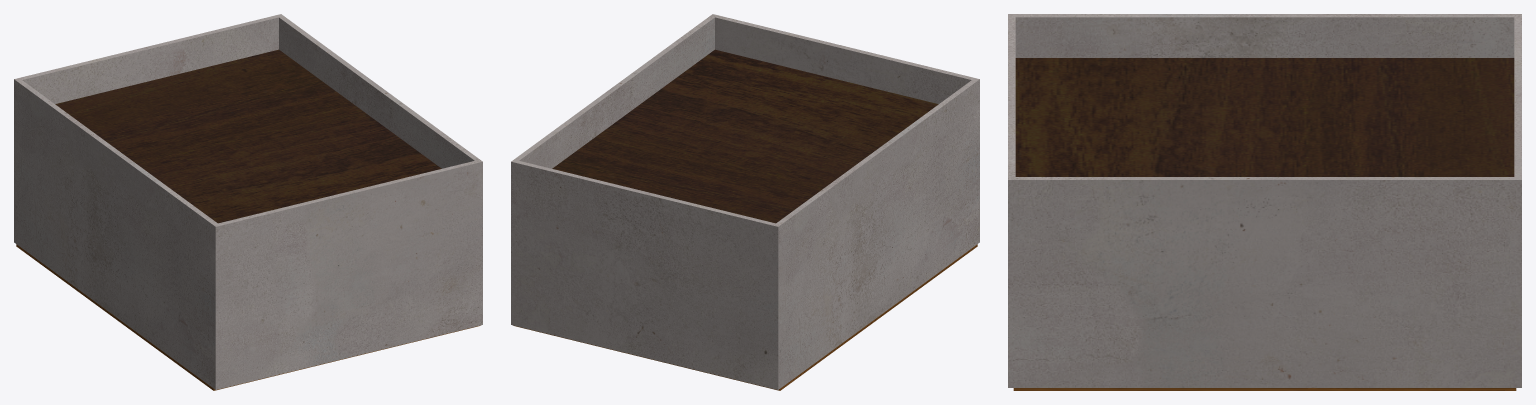
File: sceneremake.fbx
3 renders of one model, left to right at view 1: azimuth 30°, elevation 25°; view 2: azimuth 150°, elevation 25°; view 3: azimuth 270°, elevation 25°, orthographic. The views are drawn at different scales.
Visible parts, largest first — view 1: walls, floor, floor.001; view 2: walls, floor, floor.001; view 3: walls, floor, floor.001.
Part boxes in pixels (bbox=[...]): walls: bbox=[14, 14, 482, 389]; floor: bbox=[55, 49, 441, 223]; floor.001: bbox=[16, 244, 480, 390]; walls: bbox=[511, 14, 979, 389]; floor: bbox=[552, 49, 938, 223]; floor.001: bbox=[513, 244, 977, 390]; walls: bbox=[1008, 14, 1521, 387]; floor: bbox=[1015, 58, 1514, 176]; floor.001: bbox=[1013, 388, 1516, 390].
Bounding box in the file's own units: 103789 × 61510 × 135748.
